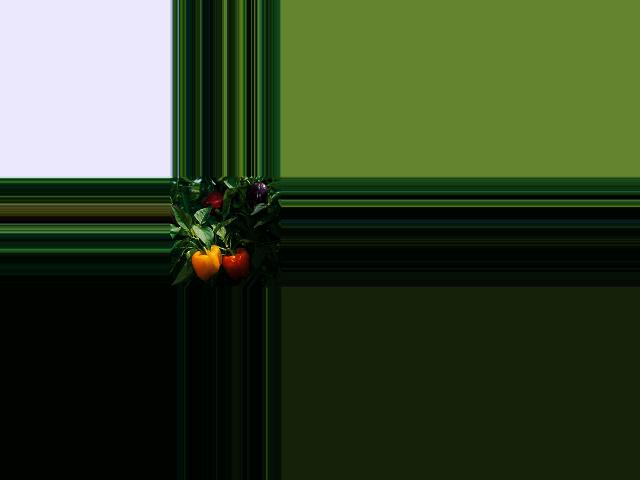bell_pepper: (191, 243, 229, 279)
